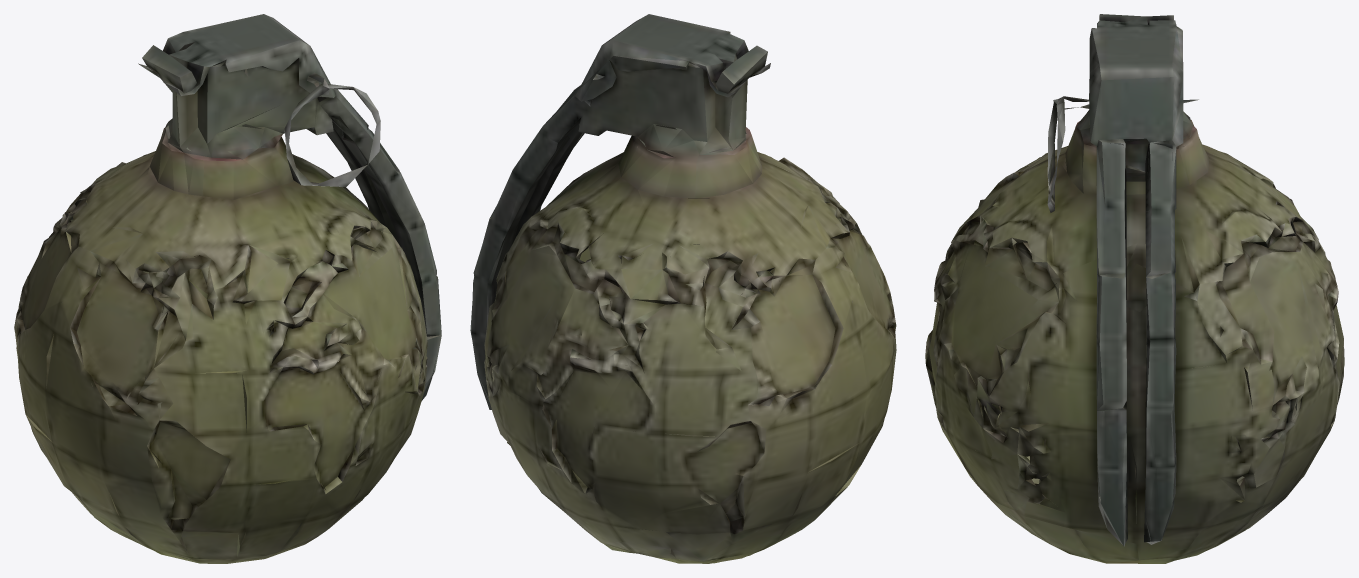
The model's file is globe_grenade.glb.
3 renders of one model, left to right at view 1: azimuth 30°, elevation 25°; view 2: azimuth 150°, elevation 25°; view 3: azimuth 270°, elevation 25°, orthographic.
Parts seen in each view (by area): view 1: model; view 2: model; view 3: model.
Boxes of the visible parts, x1,y1,x2,y2 form: model: [14, 14, 441, 563]; model: [470, 14, 896, 563]; model: [925, 14, 1344, 563].
Bounding box in the file's own units: 0.0862 × 0.11 × 0.0812.
1 material, 1 textured.
